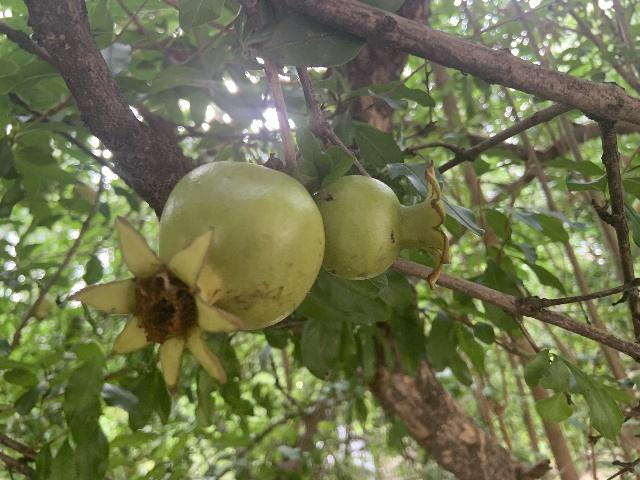mid-growth: (66, 160, 325, 395), (316, 160, 449, 289)
